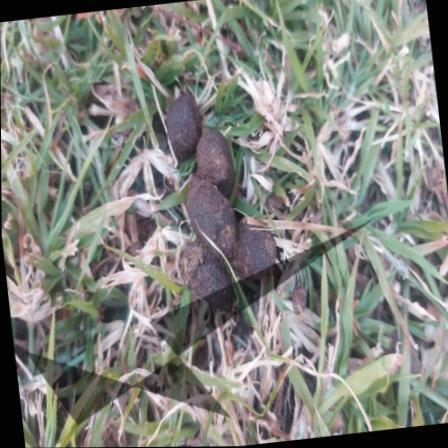dog-poop: (155, 82, 289, 326)
